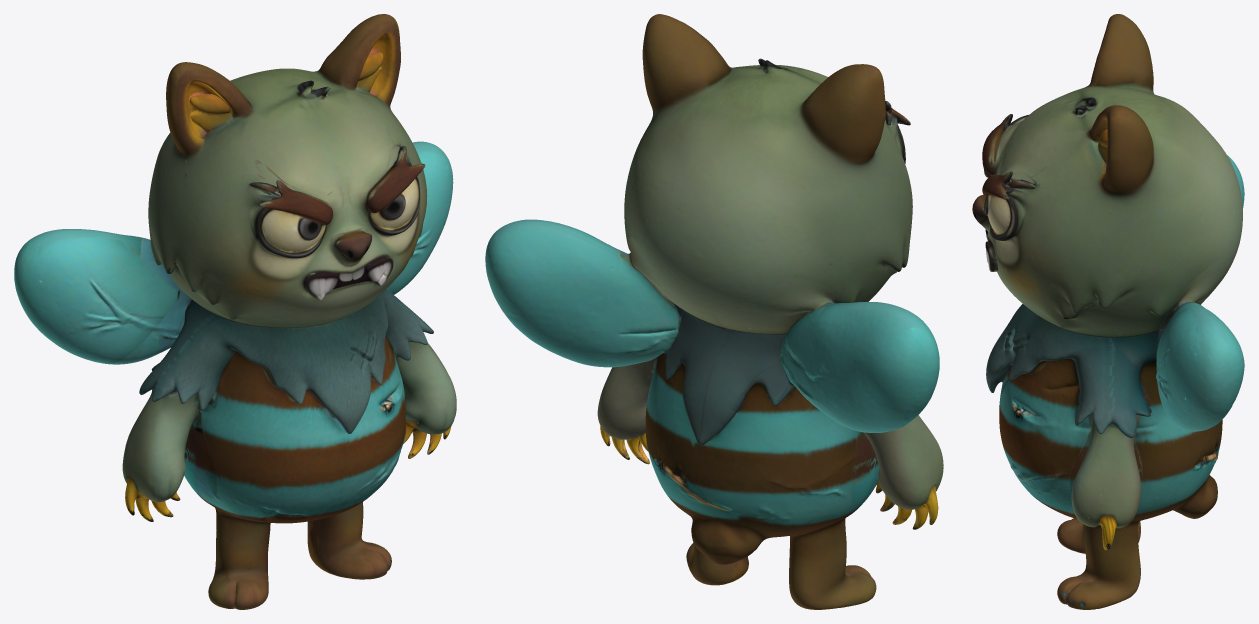
The model's file is WareBee.glb.
3 views of the same model, side by side, from view 1: azimuth 30°, elevation 25°; view 2: azimuth 150°, elevation 25°; view 3: azimuth 270°, elevation 25° (orthographic). The views are drawn at different scales.
Size of the model in its own units: 1.63 by 1.9 by 0.9243.
1 material, 1 textured.
